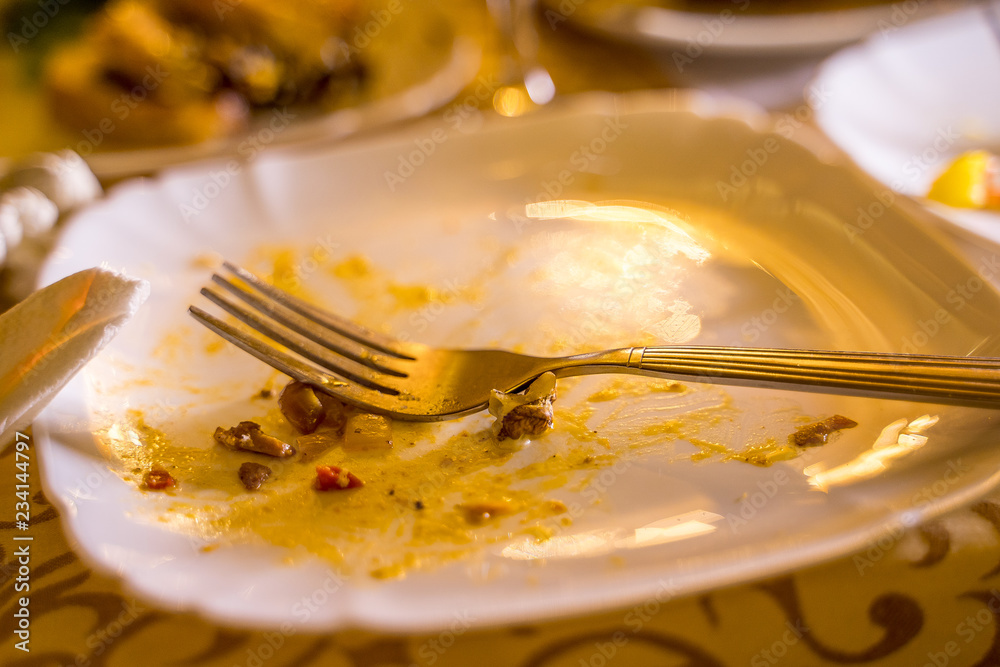plate: (18, 102, 1000, 645)
